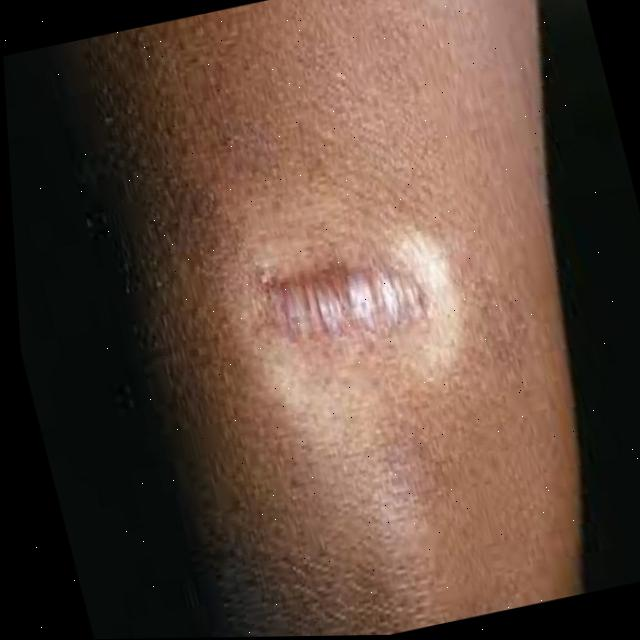Eczema: (232, 236, 451, 373)
